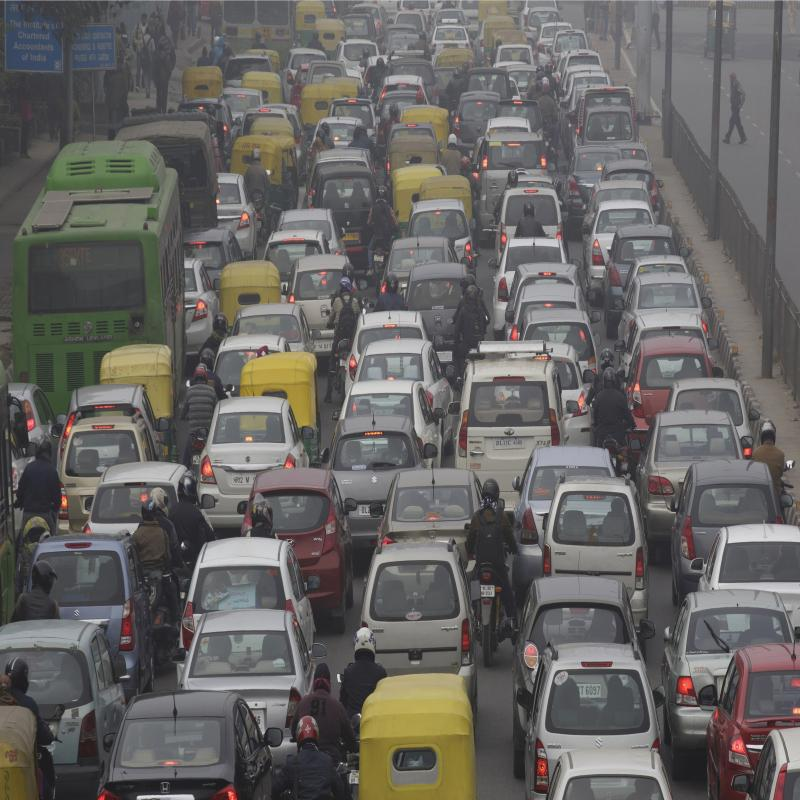car: (532, 624, 662, 787), (670, 576, 793, 740), (185, 609, 310, 755), (361, 549, 475, 695), (186, 543, 312, 673), (253, 445, 352, 597), (537, 474, 639, 613), (465, 353, 556, 498), (200, 401, 301, 525), (675, 458, 773, 585), (637, 327, 722, 445), (336, 377, 430, 482)
